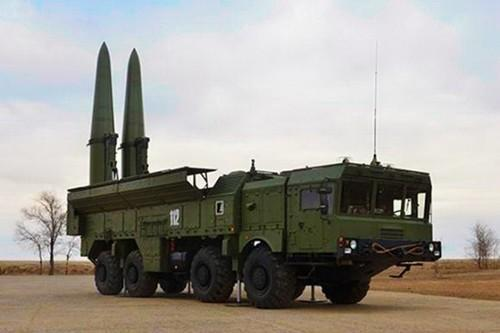rszo: (59, 154, 449, 314)
